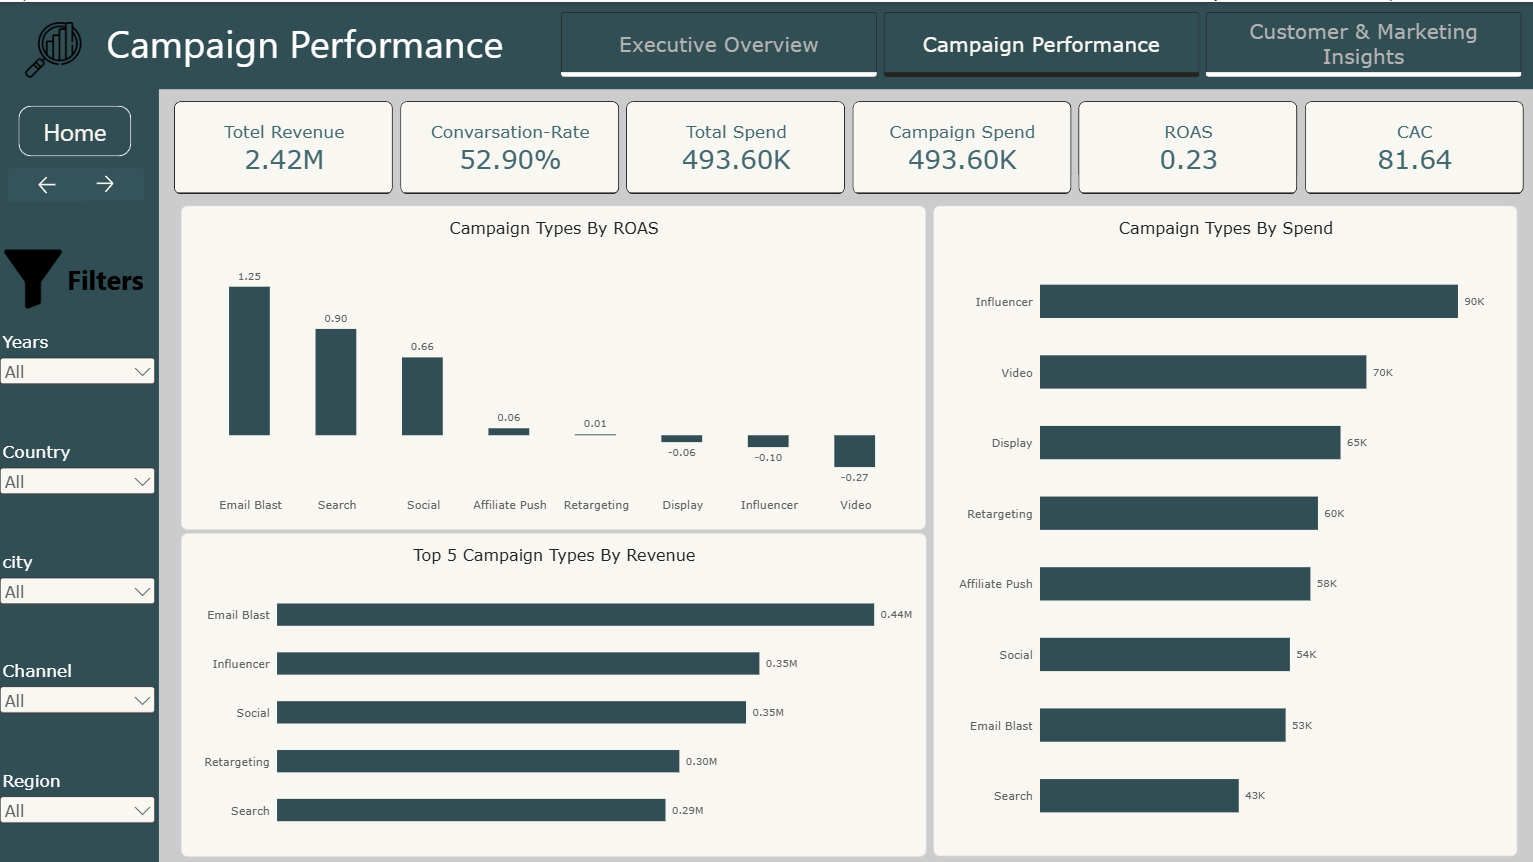

The dashboard page shown, as its layout file describes it:
{"tool":"powerbi","page":{"name":"Campaign Performance","canvas":[1920,1080],"ordinal":2},"visuals":[{"type":"shape","box":[0,0,1920,109.1],"z":0},{"type":"shape","box":[0,93.7,203.5,985.2],"z":1000},{"type":"shape","box":[118.6,8.7,533.7,82],"z":2000},{"type":"image","box":[22.7,24.4,95.9,69.8],"z":3000},{"type":"image","box":[8.7,307,73.3,76.7],"z":4000},{"type":"shape","box":[79.2,309.8,113.5,70.2],"z":5000},{"type":"cardVisual","fields":{"Data":["Measure.Totel Revenue","Measure.Convarsation-Rate","Measure.Total Spend","Measure.Campaign Spend","Measure.ROAS","Measure.CAC"]},"box":[221.5,122.5,1685.9,117.1],"z":6000},{"type":"slicer","fields":{"Values":["Date.Year"]},"box":[0,410.7,203.5,82.9],"z":7000},{"type":"slicer","fields":{"Values":["Geography.Region"]},"box":[0,956.4,203.5,84.7],"z":8000},{"type":"slicer","fields":{"Values":["Geography.Country"]},"box":[0,547.5,203.5,82.9],"z":9000},{"type":"slicer","fields":{"Values":["Channel.ChannelName"]},"box":[0,819.5,203.5,84.7],"z":10000},{"type":"slicer","fields":{"Values":["Geography.City"]},"box":[0,684.4,203.5,82.9],"z":11000},{"type":"actionButton","box":[86.5,207.1,99.1,39.6],"z":12000},{"type":"actionButton","box":[14.4,207.1,99.1,41.4],"z":13000},{"type":"shape","box":[28.8,129.7,140.5,63],"z":14000},{"type":"pageNavigator","box":[704.7,12.2,1200,82],"z":15000},{"type":"clusteredBarChart","title":"Campaign Types By Spend","fields":{"Category":["Campaign.CampaignType"],"Y":["Measure.Total Spend"]},"box":[1168.6,254.7,728,811],"z":16000},{"type":"clusteredColumnChart","title":"Campaign Types By ROAS","fields":{"Category":["Campaign.CampaignType"],"Y":["Measure.ROAS"]},"box":[230.2,254.7,929,404],"z":17000},{"type":"clusteredBarChart","title":"Top 5 Campaign Types By Revenue","fields":{"Category":["Campaign.CampaignType"],"Y":["Measure.Totel Revenue"]},"box":[230.2,662.8,929.7,402.9],"z":18000}]}

Visuals, with their boxes in screenshot pixels (x1, y1, x2, y2), scaled from the page's 1920x1080 canvas onto the 1533x862 screenshot:
shape: region(0, 0, 1532, 87)
shape: region(0, 75, 162, 861)
shape: region(95, 7, 521, 72)
image: region(18, 19, 95, 75)
image: region(7, 245, 65, 306)
shape: region(63, 247, 154, 303)
cardVisual - Measure.Totel Revenue x Measure.Convarsation-Rate: region(177, 98, 1523, 191)
slicer - Date.Year: region(0, 328, 162, 394)
slicer - Geography.Region: region(0, 763, 162, 831)
slicer - Geography.Country: region(0, 437, 162, 503)
slicer - Channel.ChannelName: region(0, 654, 162, 722)
slicer - Geography.City: region(0, 546, 162, 612)
actionButton: region(69, 165, 148, 197)
actionButton: region(11, 165, 91, 198)
shape: region(23, 104, 135, 154)
pageNavigator: region(563, 10, 1521, 75)
"Campaign Types By Spend" clusteredBarChart: region(933, 203, 1514, 851)
"Campaign Types By ROAS" clusteredColumnChart: region(184, 203, 926, 526)
"Top 5 Campaign Types By Revenue" clusteredBarChart: region(184, 529, 926, 851)
